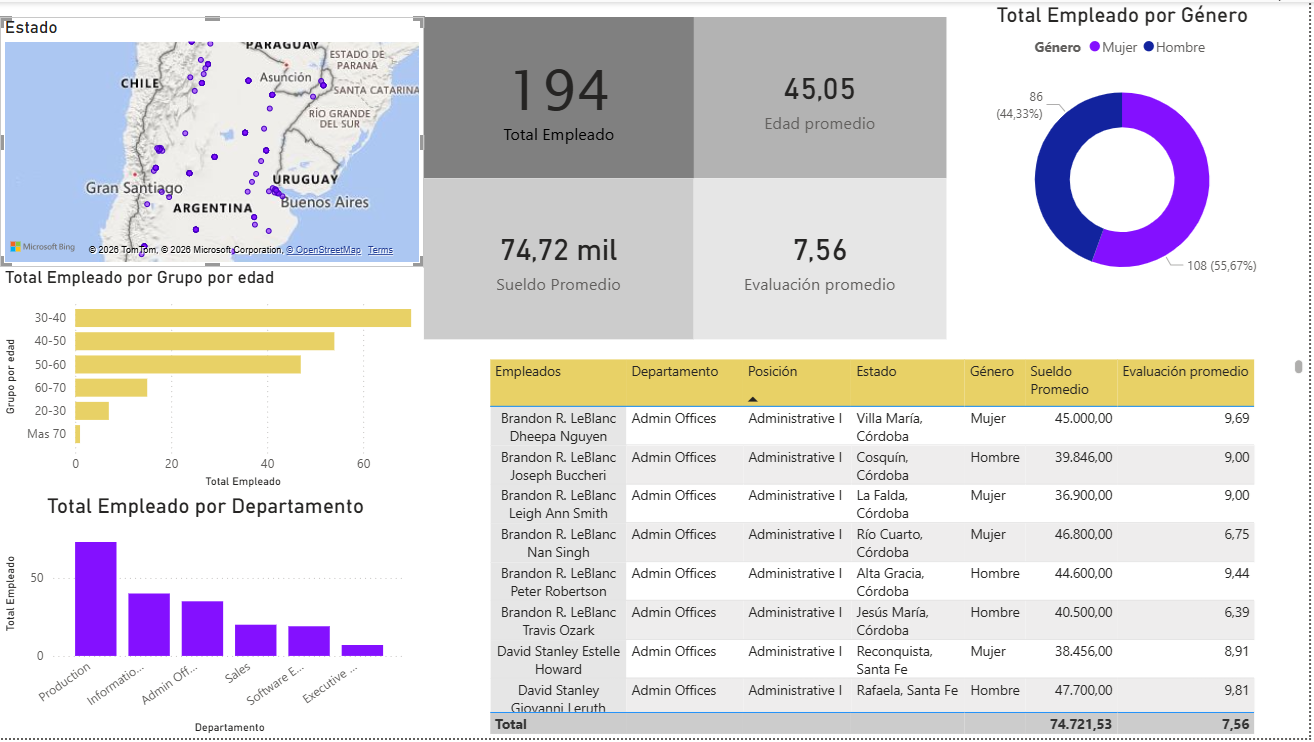

The dashboard page shown, as its layout file describes it:
{"tool":"powerbi","page":{"name":"Página 1","canvas":[1280,720],"ordinal":0},"visuals":[{"type":"tableEx","fields":{"Values":["Tabla Empleados.Empleados","Tabla Empleados.Departamento","Tabla Empleados.Posición","Tabla Empleados.Estado","Tabla Empleados.Género","Tabla Sueldo.Sueldo Promedio","Tabla Evaluacion.Evaluación promedio"]},"box":[473.4,344.4,806.9,376],"z":0},{"type":"card","fields":{"Values":["Tabla Empleados.Total Empleado"]},"box":[414.4,15.1,264.8,157.8],"z":1000},{"type":"donutChart","fields":{"Category":["Tabla Empleados.Género"],"Y":["Tabla Empleados.Total Empleado"]},"box":[926.2,0,344.4,295],"z":2000},{"type":"columnChart","fields":{"Category":["Tabla Empleados.Departamento"],"Y":["Tabla Empleados.Total Empleado"]},"box":[0,480.3,402.1,240.1],"z":3000},{"type":"map","fields":{"Category":["Tabla Empleados.Estado"]},"box":[0,15.1,402.1,244.3],"z":4000},{"type":"card","fields":{"Values":["Tabla Sueldo.Sueldo Promedio"]},"box":[414.5,172.4,264.1,157.7],"z":4001},{"type":"card","fields":{"Values":["Tabla Evaluacion.Evaluación promedio"]},"box":[678.7,172.4,247,157.7],"z":4002},{"type":"card","fields":{"Values":["Tabla Empleados.Edad promedio"]},"box":[678.7,14.7,247,157.7],"z":4003},{"type":"barChart","fields":{"Category":["Tabla Empleados.Grupo por edad"],"Y":["Tabla Empleados.Total Empleado"]},"box":[0,259.3,414.4,220.9],"z":4004}]}

Visuals, with their boxes in screenshot pixels (x1, y1, x2, y2), scaled from the page's 1280x720 canvas onto the 1314x742 screenshot:
tableEx - Tabla Empleados.Empleados x Tabla Empleados.Departamento: select_region(486, 355, 1313, 741)
card - Tabla Empleados.Total Empleado: select_region(425, 16, 697, 178)
donutChart - Tabla Empleados.Género x Tabla Empleados.Total Empleado: select_region(951, 0, 1304, 304)
columnChart - Tabla Empleados.Departamento x Tabla Empleados.Total Empleado: select_region(0, 495, 413, 741)
map - Tabla Empleados.Estado: select_region(0, 16, 413, 267)
card - Tabla Sueldo.Sueldo Promedio: select_region(426, 178, 697, 340)
card - Tabla Evaluacion.Evaluación promedio: select_region(697, 178, 950, 340)
card - Tabla Empleados.Edad promedio: select_region(697, 15, 950, 178)
barChart - Tabla Empleados.Grupo por edad x Tabla Empleados.Total Empleado: select_region(0, 267, 425, 495)
